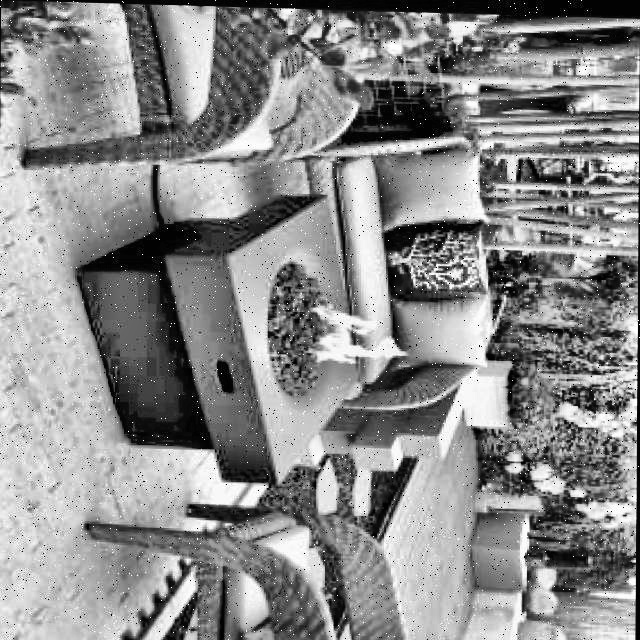Fire: (301, 308, 410, 369)
